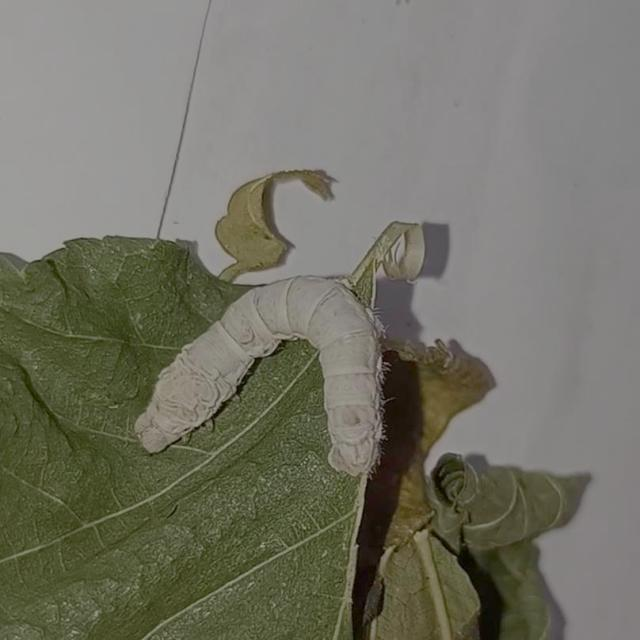Healthy: (128, 260, 386, 482)
